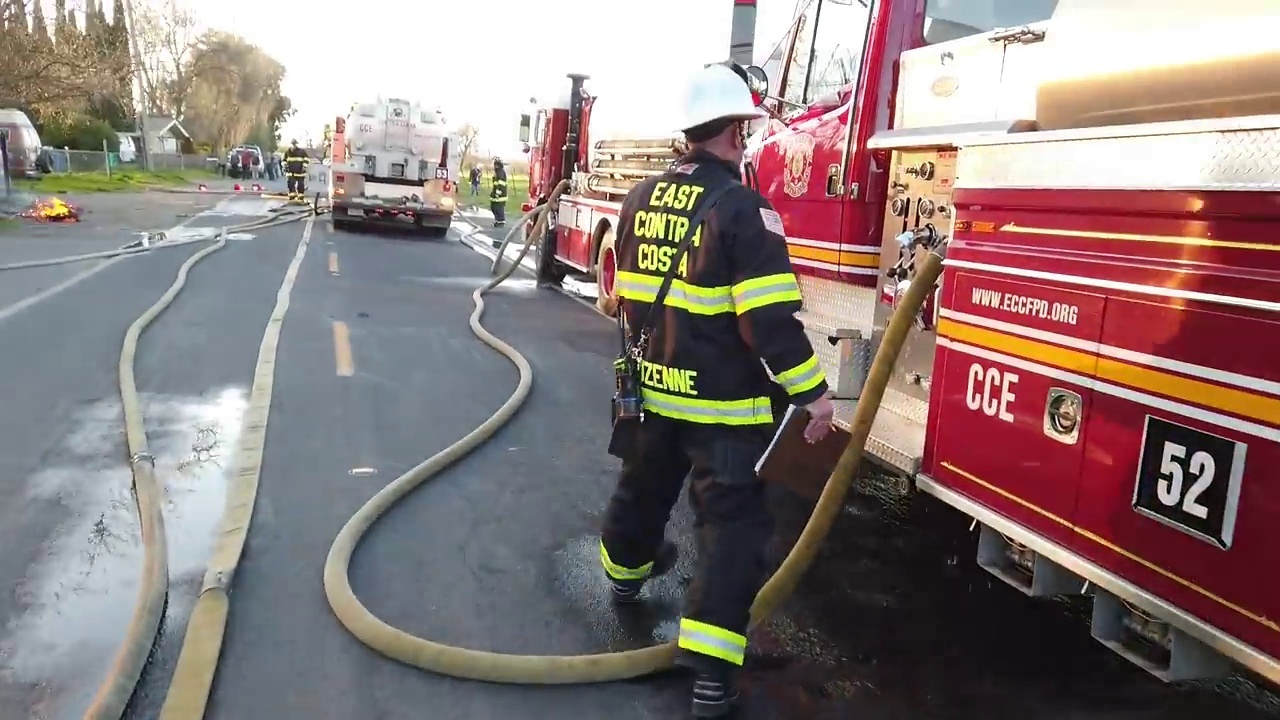fire: (16, 187, 88, 230)
